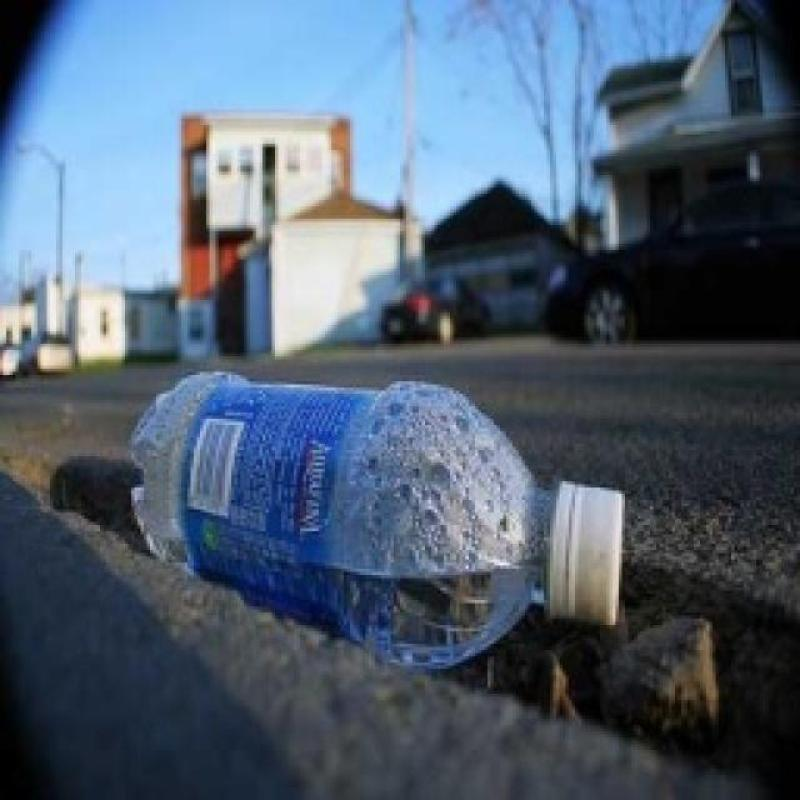botella: (119, 366, 631, 672)
